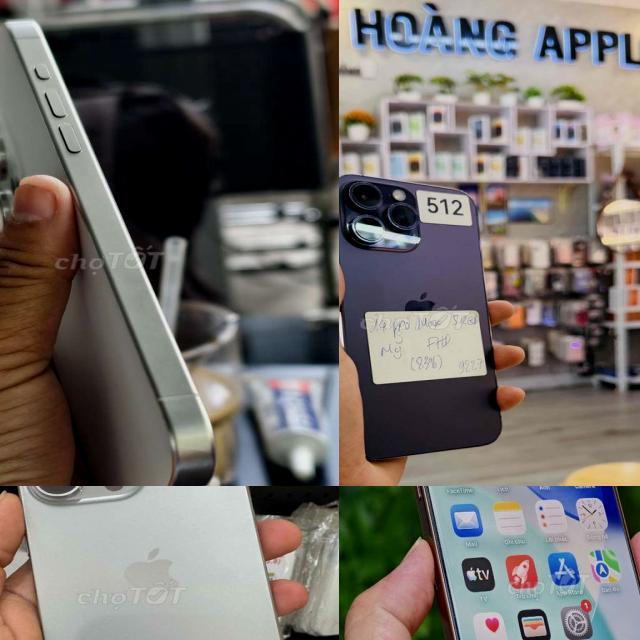gen_14: (339, 153, 504, 465)
gen_15: (0, 18, 235, 486), (0, 486, 316, 640)
gen_16: (413, 486, 640, 640)
scratch: (342, 180, 424, 250)
